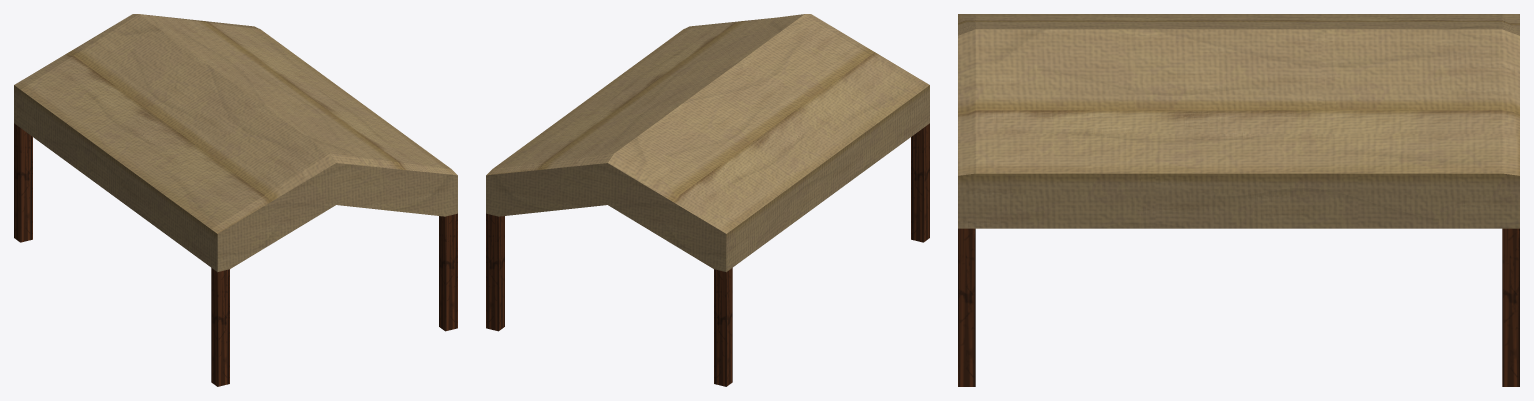
File: Tent_Large (3).fbx
The picture shows the model from 3 angles, left to right: view 1: azimuth 30°, elevation 25°; view 2: azimuth 150°, elevation 25°; view 3: azimuth 270°, elevation 25°; orthographic projection. The views are drawn at different scales.
Visible parts, largest first — view 1: Large tent - cannon range; view 2: Large tent - cannon range; view 3: Large tent - cannon range.
Boxes of the visible parts, x1,y1,x2,y2 form: Large tent - cannon range: [14, 14, 457, 386]; Large tent - cannon range: [486, 14, 929, 386]; Large tent - cannon range: [958, 14, 1519, 386].
Bounding box in the file's own units: 1196 × 950 × 1755.
